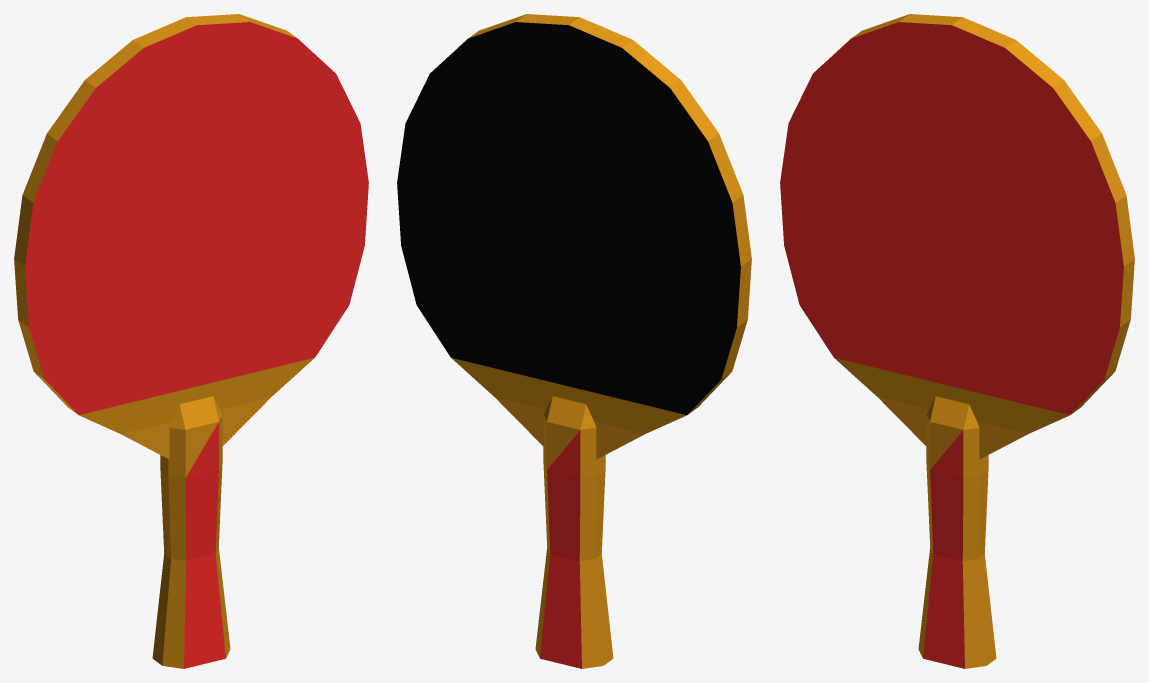
File: Pong_Racket_1.fbx
3 views of the same model, side by side, from view 1: azimuth 30°, elevation 25°; view 2: azimuth 150°, elevation 25°; view 3: azimuth 330°, elevation 25° (orthographic).
Parts seen in each view (by area): view 1: Pong_Racket_1; view 2: Pong_Racket_1; view 3: Pong_Racket_1.
Part boxes in pixels (bbox=[...]): Pong_Racket_1: bbox=[14, 14, 368, 668]; Pong_Racket_1: bbox=[397, 14, 751, 668]; Pong_Racket_1: bbox=[780, 14, 1134, 668].
Size of the model in its own units: 22.17 by 38.99 by 3.01.
